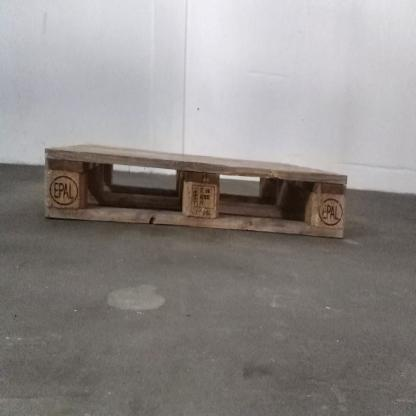BoxFace: (42, 137, 349, 242)
